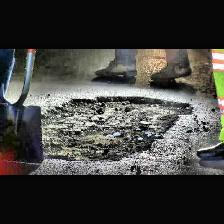pothole: (28, 95, 194, 161)
